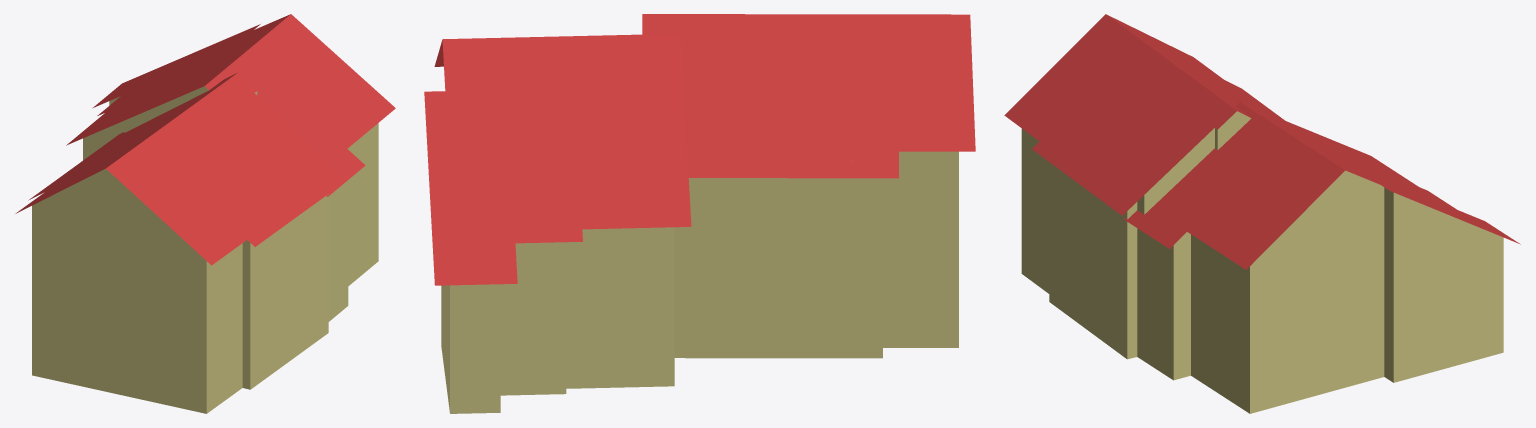
The picture shows the model from 3 angles, left to right: view 1: azimuth 30°, elevation 25°; view 2: azimuth 150°, elevation 25°; view 3: azimuth 270°, elevation 25°; orthographic projection. The views are drawn at different scales.
Bounding box in the file's own units: 27.4 × 29.9 × 14.71.
